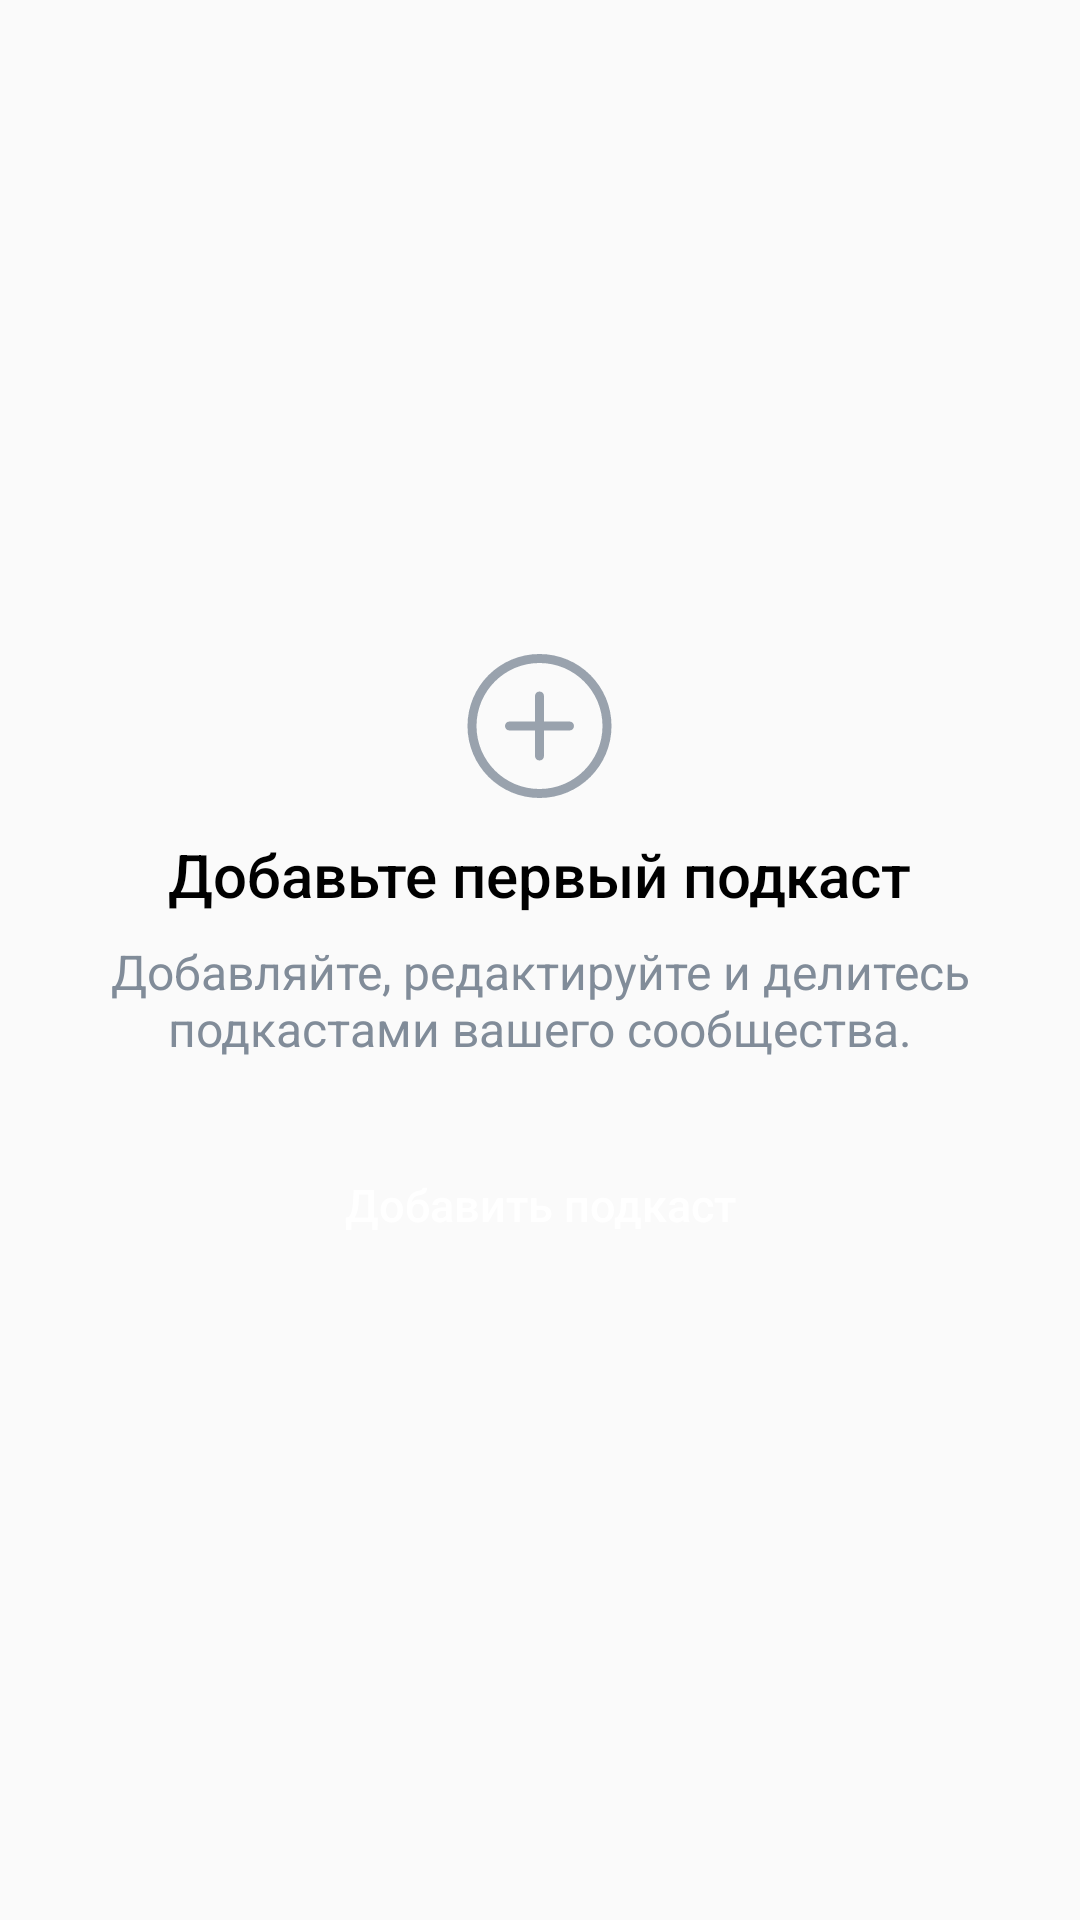

Icons on this 1080×1920 Android screen, each with the point to tap as [x,y]:
add: [539,726]
